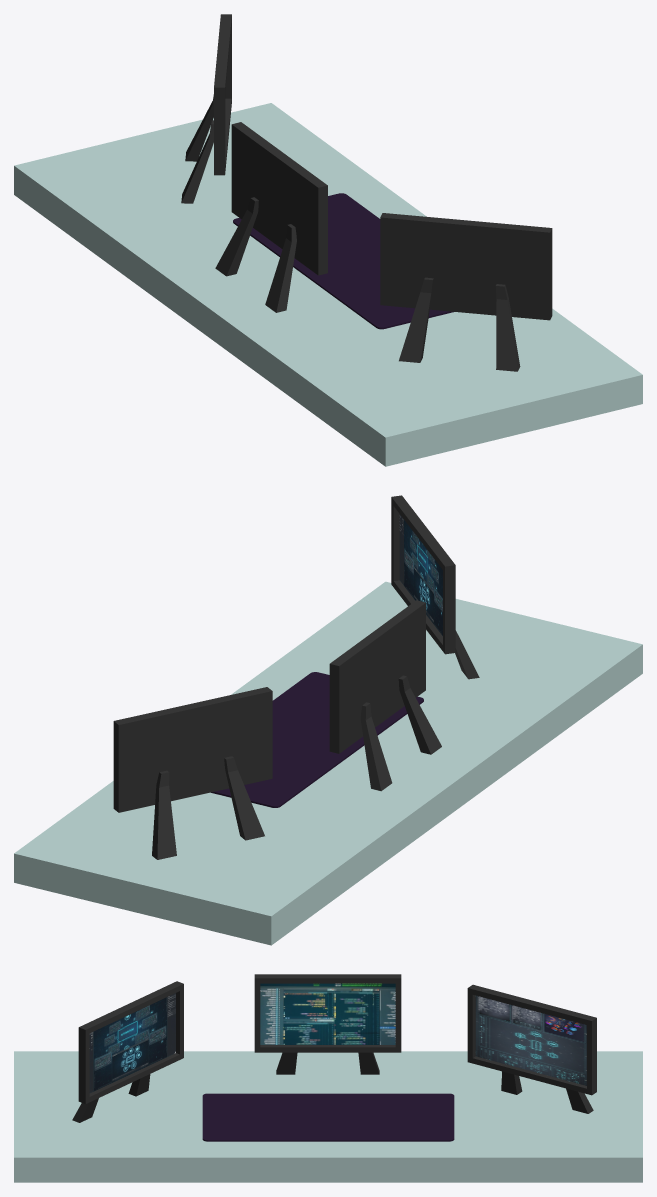
The model's file is desk portfolio2.glb.
3 renders of one model, top to bottom at view 1: azimuth 30°, elevation 25°; view 2: azimuth 150°, elevation 25°; view 3: azimuth 270°, elevation 25°, orthographic. The views are drawn at different scales.
Visible parts, largest first — view 1: Plane, Plane.004, Plane.002, Plane.007, Plane.003, Plane.001, Plane.006, Plane.005; view 2: Plane, Plane.006, Plane.002, Plane.007, Plane.004, Plane.005, Plane.001; view 3: Plane, Plane.007, Plane.002, Plane.006, Plane.004, Plane.001, Plane.005, Plane.003.
Boxes of the visible parts, <box> form: Plane: <box>14,103,642,466</box>; Plane.004: <box>380,213,552,320</box>; Plane.002: <box>231,122,327,275</box>; Plane.007: <box>233,193,453,329</box>; Plane.003: <box>399,277,520,371</box>; Plane.001: <box>215,197,296,312</box>; Plane.006: <box>214,14,231,175</box>; Plane.005: <box>181,94,213,203</box>; Plane: <box>14,581,642,945</box>; Plane.006: <box>113,687,272,812</box>; Plane.002: <box>329,600,425,753</box>; Plane.007: <box>211,672,423,807</box>; Plane.004: <box>391,495,455,654</box>; Plane.005: <box>152,756,264,859</box>; Plane.001: <box>360,675,441,791</box>; Plane: <box>14,1051,642,1182</box>; Plane.007: <box>202,1093,454,1141</box>; Plane.002: <box>254,974,401,1052</box>; Plane.006: <box>467,984,596,1095</box>; Plane.004: <box>78,981,183,1104</box>; Plane.001: <box>276,1052,379,1074</box>; Plane.005: <box>501,1071,593,1113</box>; Plane.003: <box>72,1074,150,1122</box>.
Size of the model in its own units: 2 by 1.16 by 5.
6 materials, 3 textured.
